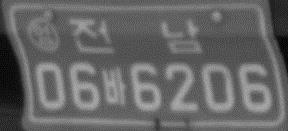0: (201, 61, 236, 114), (33, 60, 66, 111)
2: (163, 60, 201, 114)
6: (236, 61, 275, 114), (129, 61, 162, 112), (68, 60, 100, 112)
바: (99, 64, 128, 106)
영: (25, 17, 61, 53)
전남_D: (67, 16, 203, 56)
